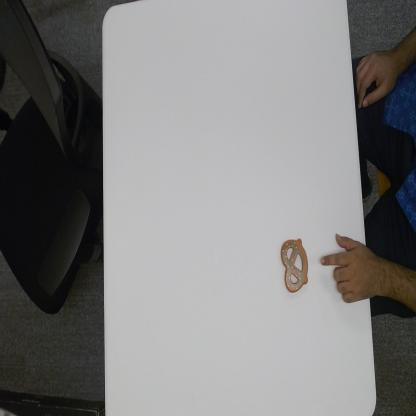Hand: (320, 230, 370, 304)
Pretzel: (279, 232, 311, 296)
